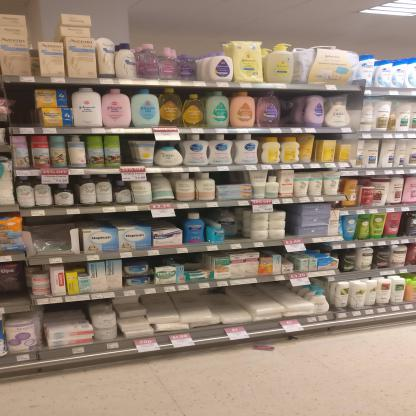Void: (13, 87, 37, 127), (27, 220, 67, 238), (288, 206, 298, 234), (217, 172, 239, 184)
